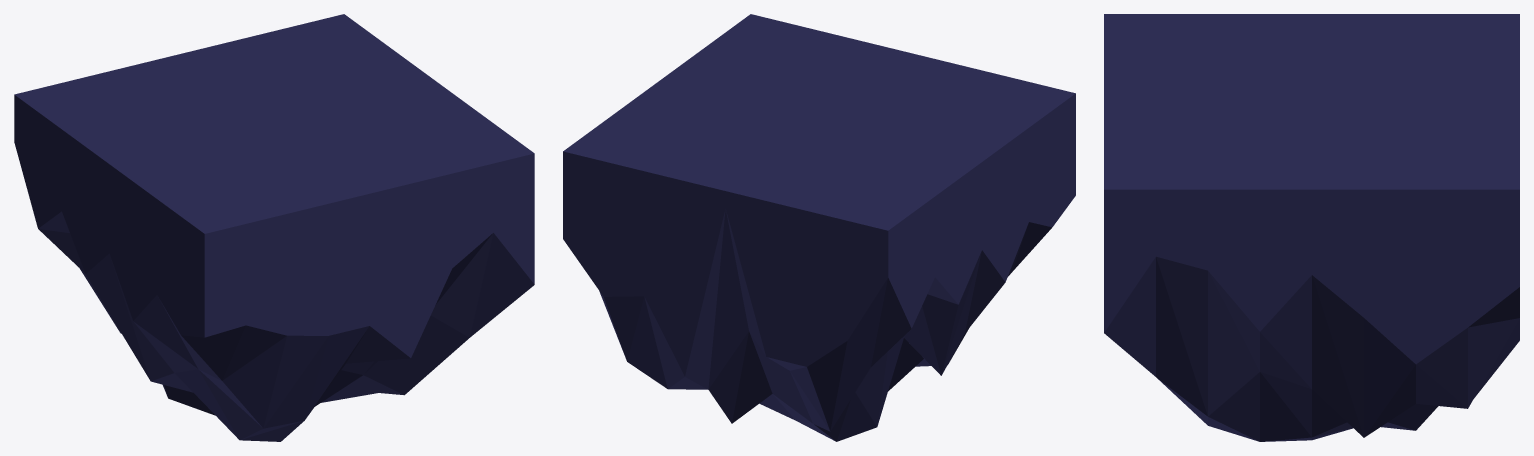
Rendered from Floortile3.fbx.
3 views of the same model, side by side, from view 1: azimuth 30°, elevation 25°; view 2: azimuth 150°, elevation 25°; view 3: azimuth 270°, elevation 25° (orthographic). The views are drawn at different scales.
Visible parts, largest first — view 1: Box008; view 2: Box008; view 3: Box008.
Part boxes in pixels (x1,y1,x2,y2): Box008: (14, 14, 534, 441); Box008: (563, 14, 1075, 441); Box008: (1104, 14, 1519, 441).
Size of the model in its own units: 100 by 100 by 85.95.
